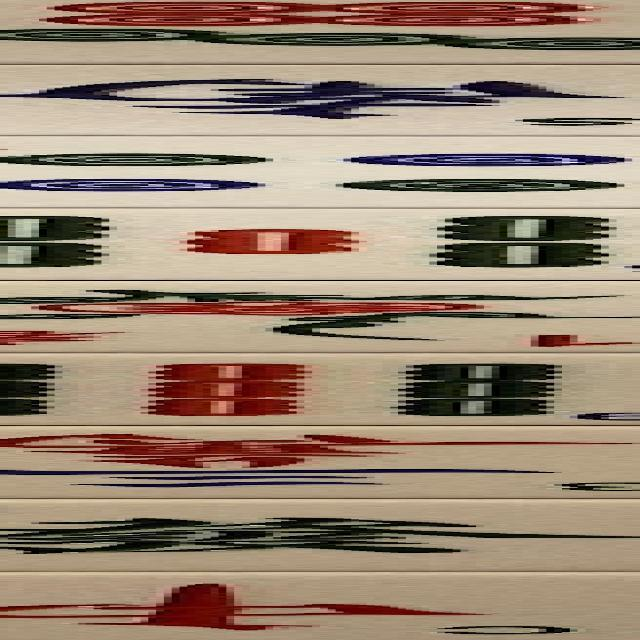bs1: (0, 286, 640, 350)
hdg: (0, 500, 640, 568)
hdr: (0, 571, 640, 640)
hws: (0, 65, 640, 134)
sb5: (0, 210, 640, 280)
sb9: (0, 354, 640, 423)
sc3: (0, 427, 640, 496)
sd4: (0, 136, 640, 207)
sd7: (0, 0, 640, 62)
